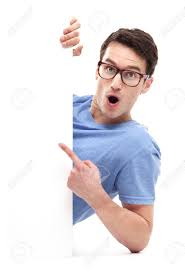hand: (54, 137, 110, 206)
